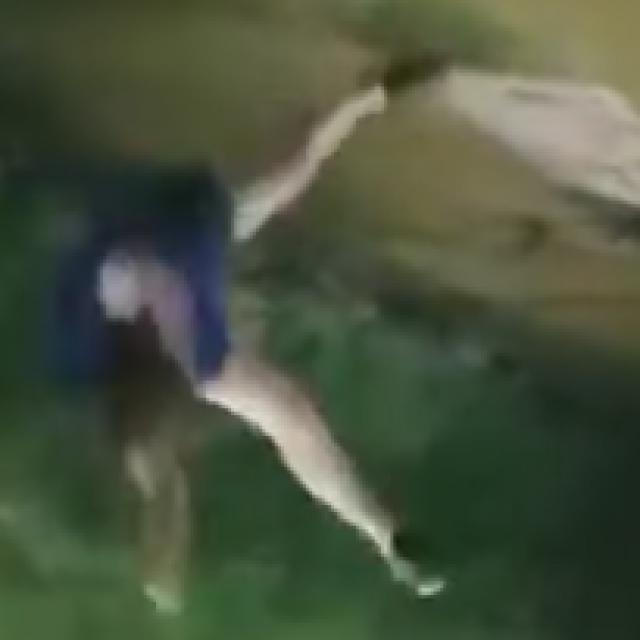fall: (50, 46, 465, 599)
